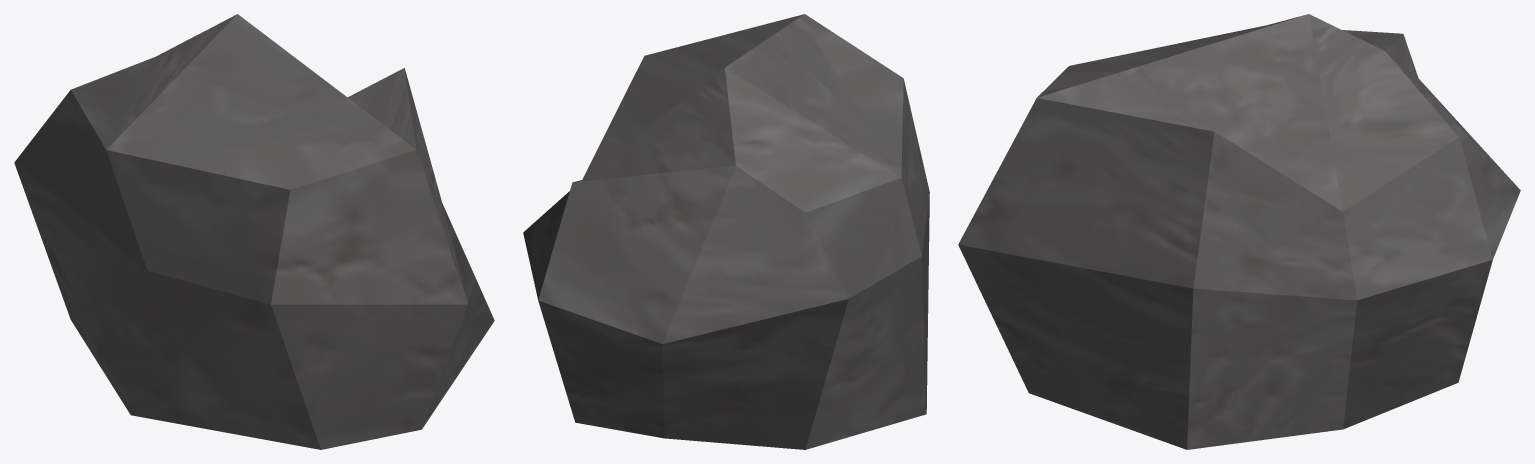
The model's file is stone_2.fbx.
The picture shows the model from 3 angles, left to right: view 1: azimuth 30°, elevation 25°; view 2: azimuth 150°, elevation 25°; view 3: azimuth 270°, elevation 25°; orthographic projection. The views are drawn at different scales.
Visible parts, largest first — view 1: pPlatonic3; view 2: pPlatonic3; view 3: pPlatonic3.
Boxes of the visible parts, x1,y1,x2,y2 form: pPlatonic3: (14,14,494,449); pPlatonic3: (523,14,929,449); pPlatonic3: (958,14,1520,449).
Bounding box in the file's own units: 43.24 × 36.9 × 53.44.
Materials: 1 (1 with a texture image).
